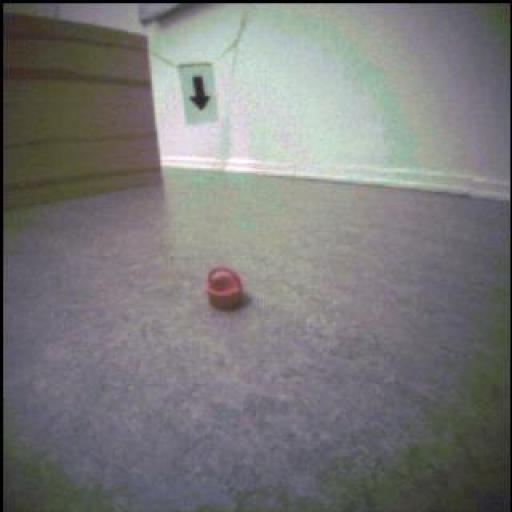Arrow: (192, 78, 211, 111)
Bucket: (208, 268, 245, 310)
